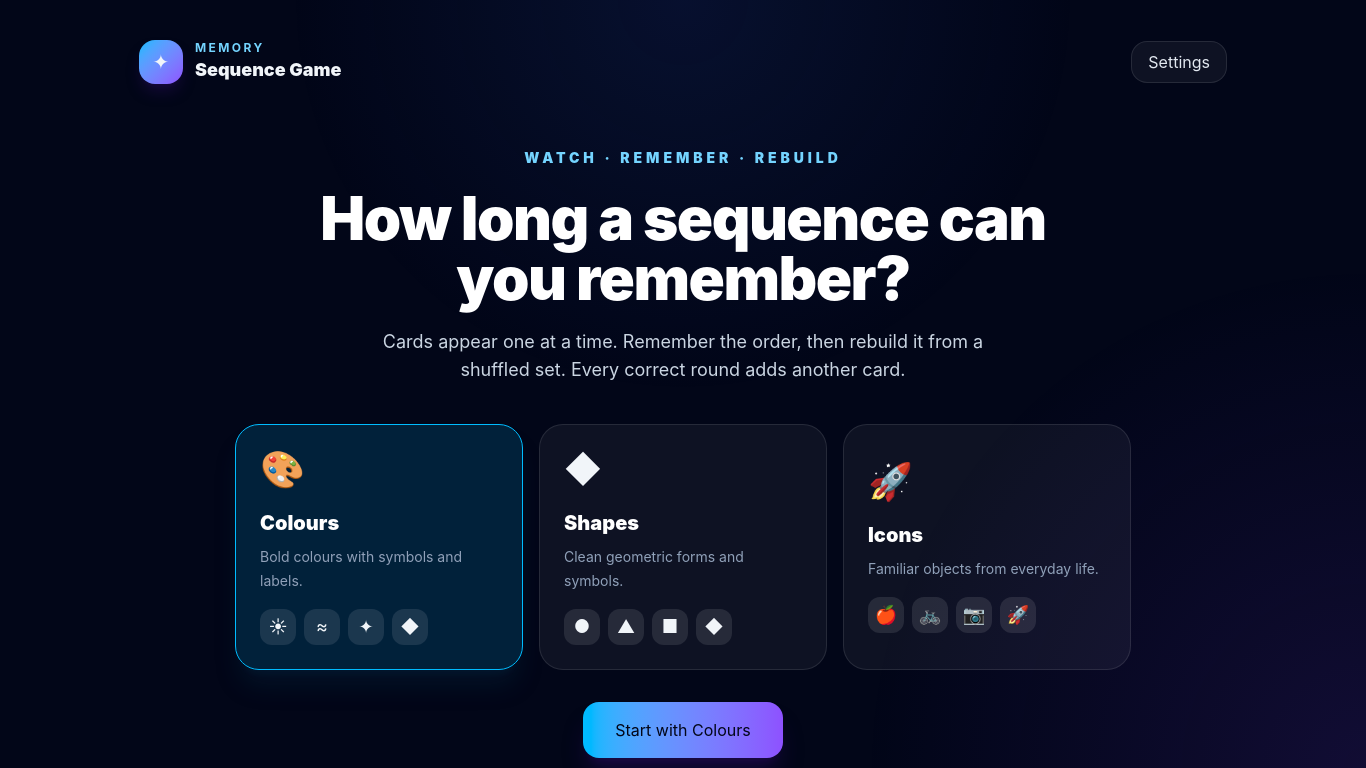
it: Memory Game › fills slots, supports undo, and enables submission when complete
Click the button "Start with Colours" at (683, 730), box [583,702,783,758]
Wait 3950 ms
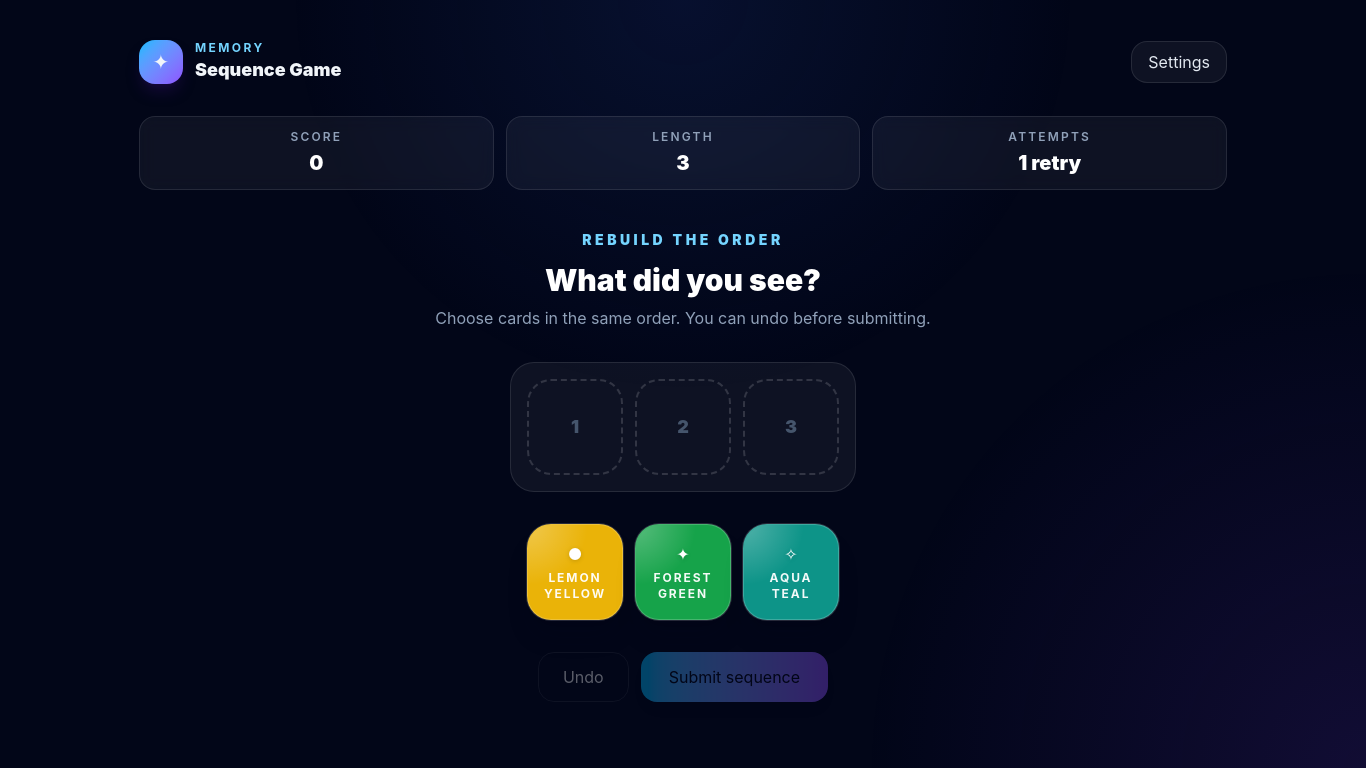
Click the button "● Lemon yellow" at (575, 572), box [527,524,623,620]
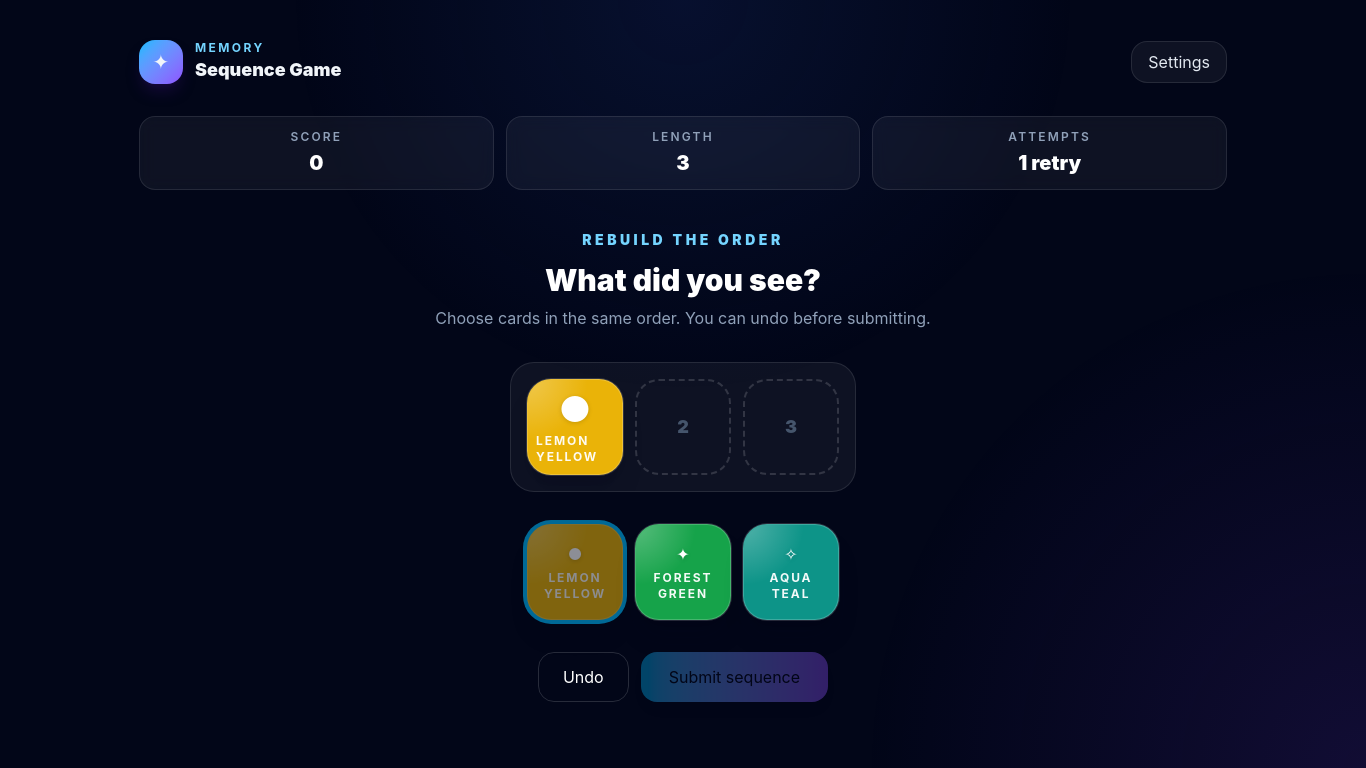
Now the button "Undo" is enabled
Click the button "Undo" at (583, 677), box [538,652,629,702]
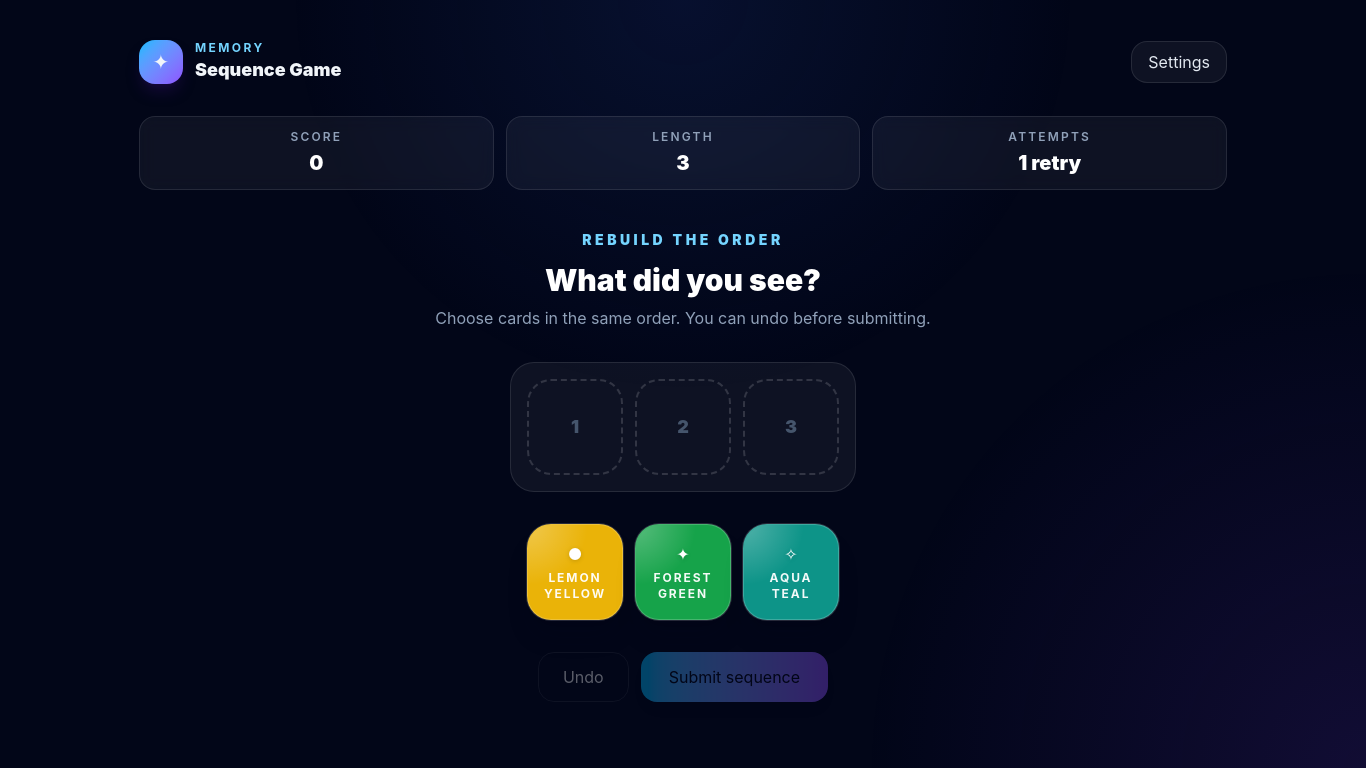
Now the button "Undo" is disabled, box [538,652,629,702]
Click the button "● Lemon yellow" at (575, 572), box [527,524,623,620]
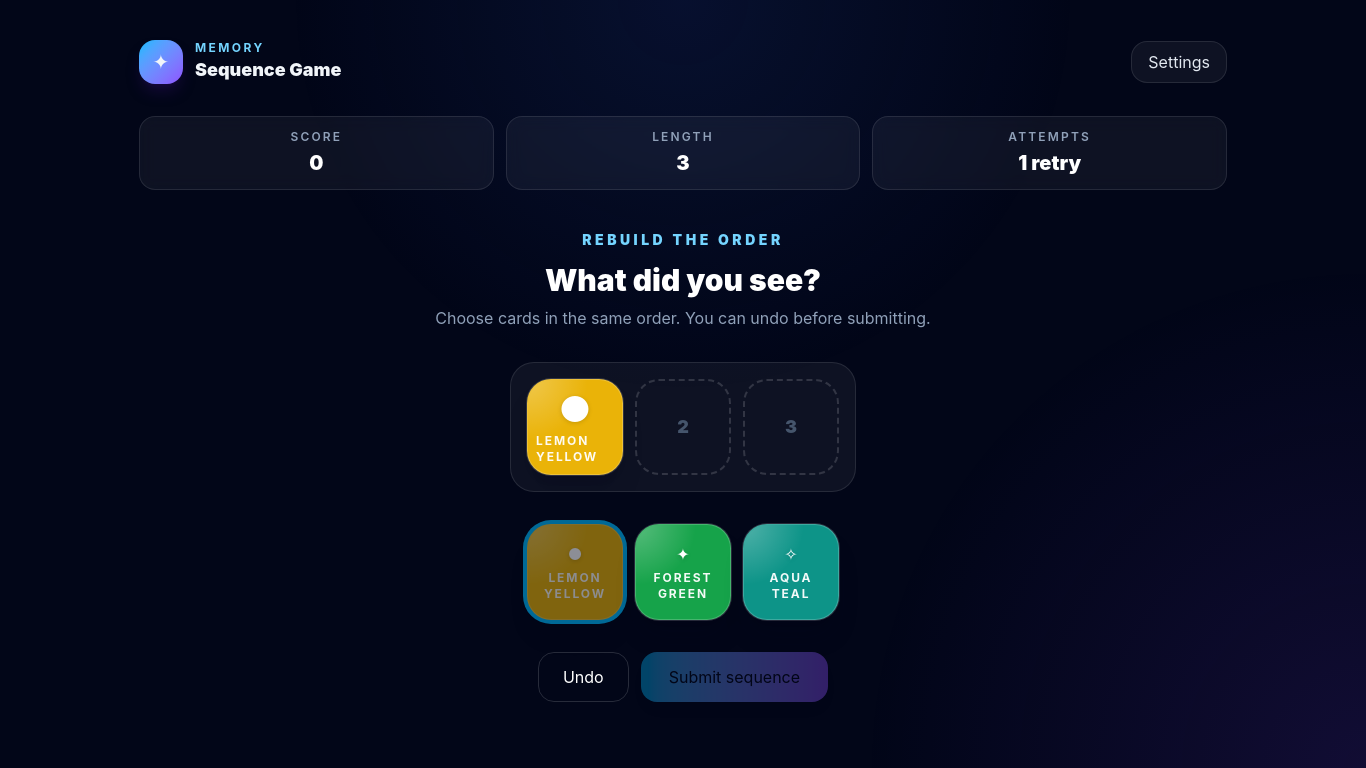
Click the button "✦ Forest green" at (683, 572), box [635,524,731,620]
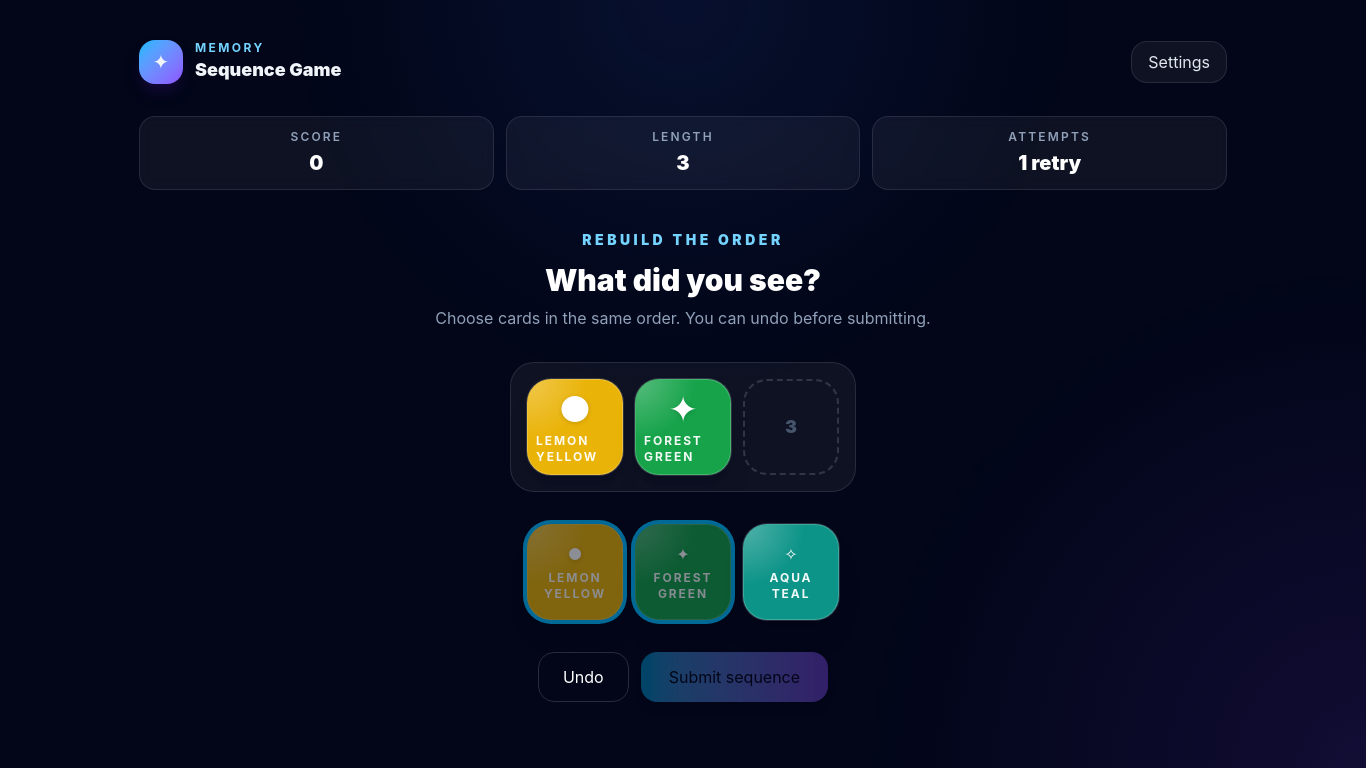
Click the button "✧ Aqua teal" at (791, 572), box [743,524,839,620]
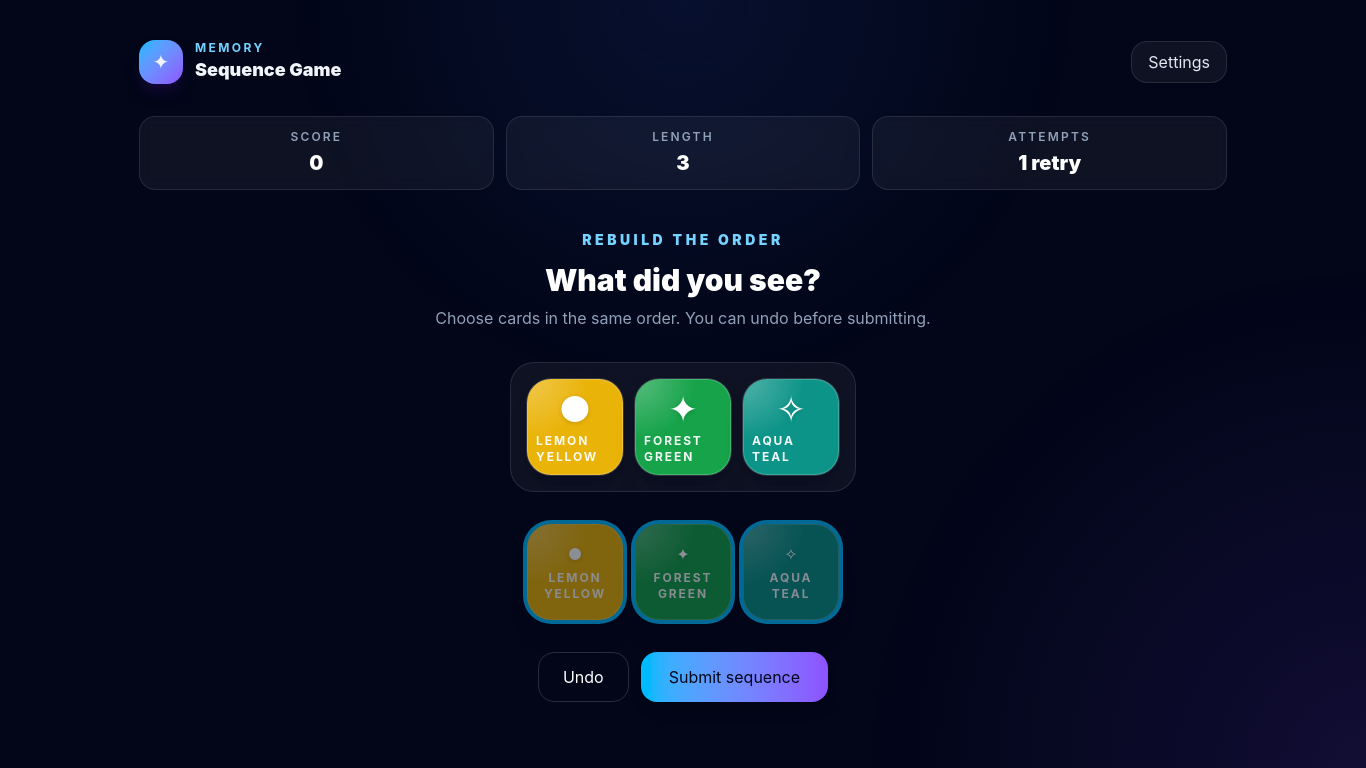
Now the button "Submit sequence" is enabled, box [641,652,828,702]
